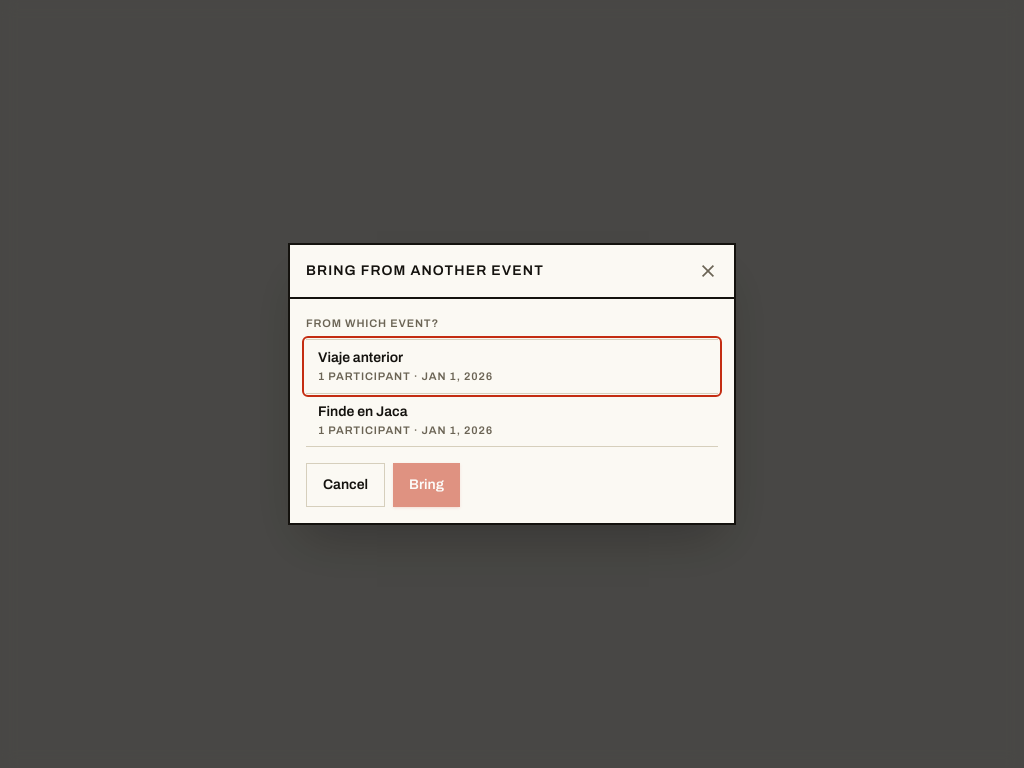
it: CloneFromEventModal › starts a fresh selection when the source changes
The width and height of the screenshot is (1024, 768).
Click the text "Viaje anterior". click: (361, 358)
box: top-left (318, 348), bottom-right (403, 368)
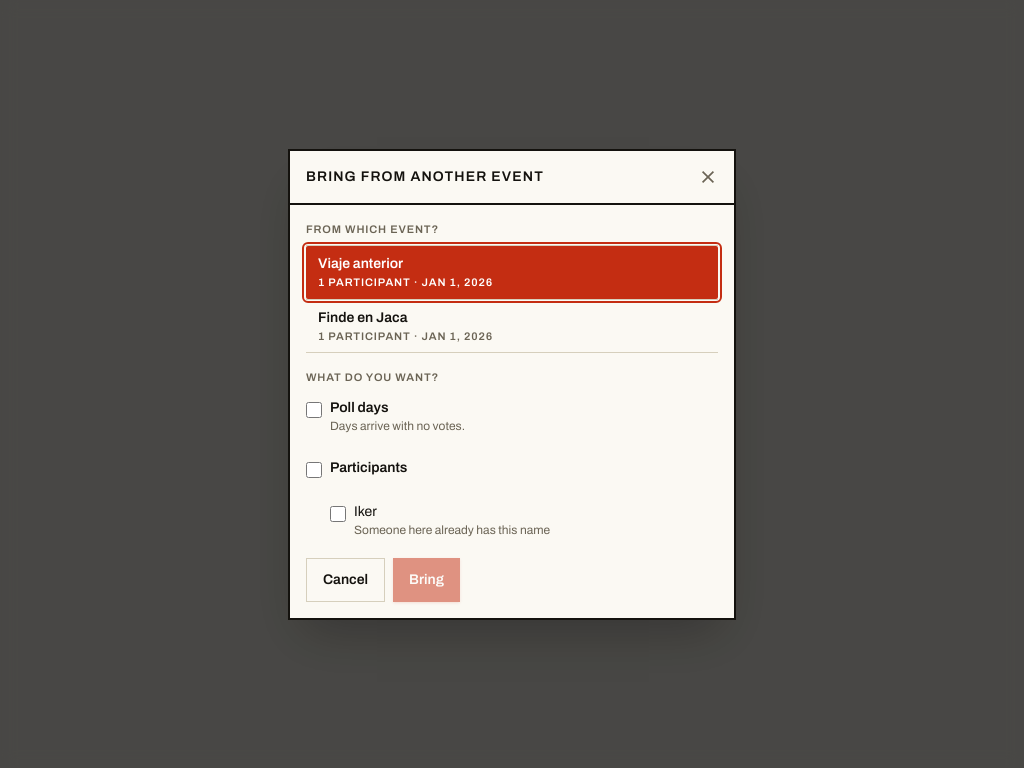
Click the checkbox labelled "Poll days Days arrive with no votes.". click: (314, 410)
box: top-left (306, 402), bottom-right (322, 418)
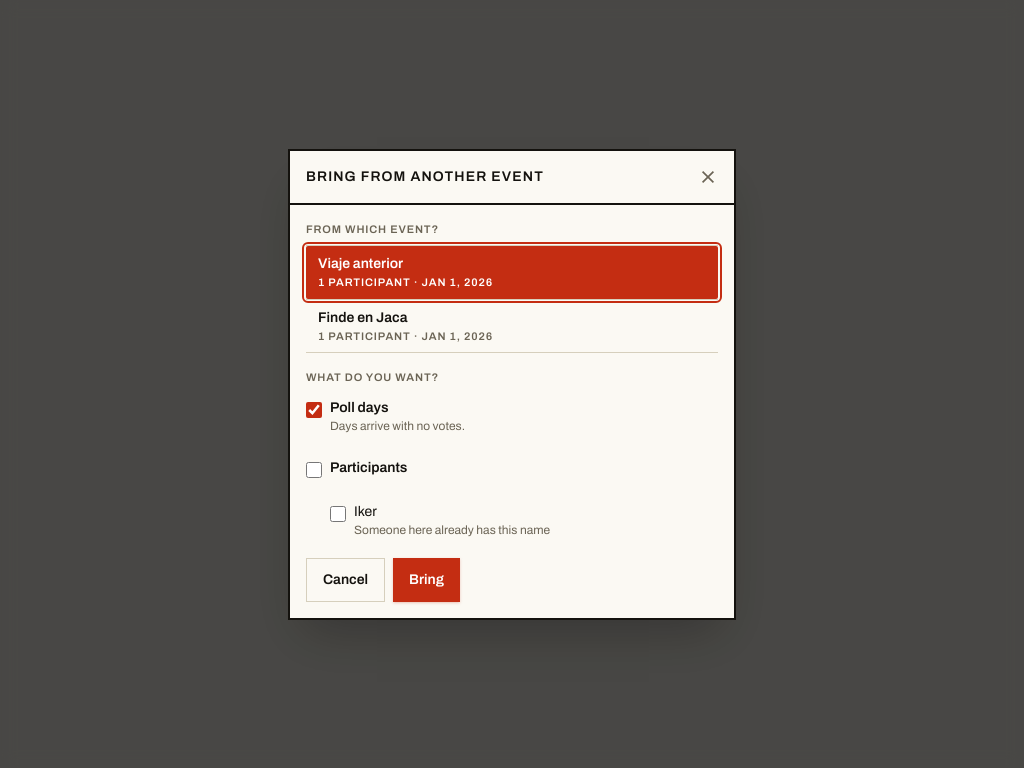
Expected: the button "Bring" is enabled, top-left (393, 558), bottom-right (460, 602)
Click the text "Finde en Jaca". click: (363, 318)
box: top-left (318, 308), bottom-right (407, 328)
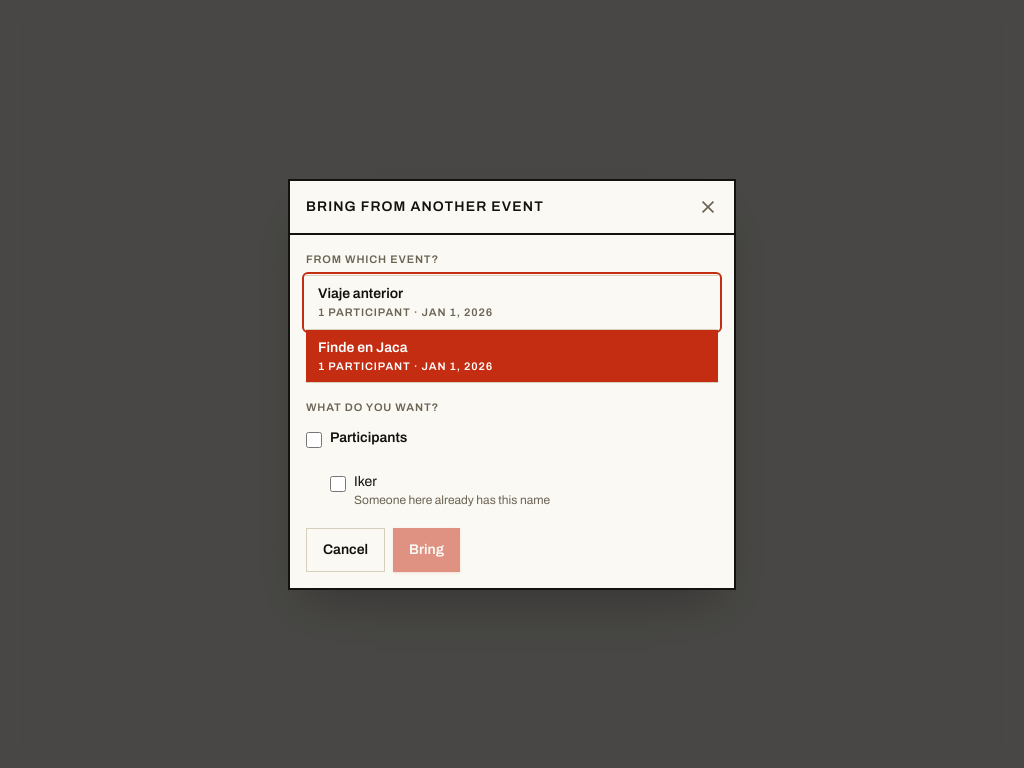
Expected: the button "Bring" is disabled, top-left (393, 528), bottom-right (460, 572)
